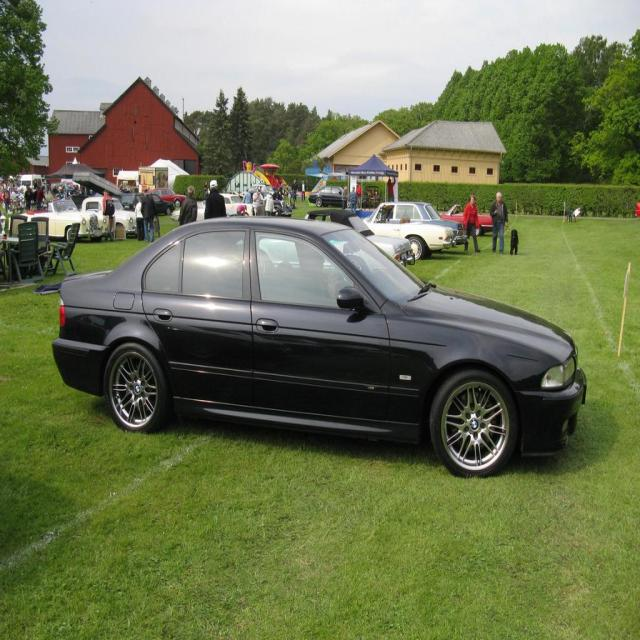car: (41, 218, 560, 469)
